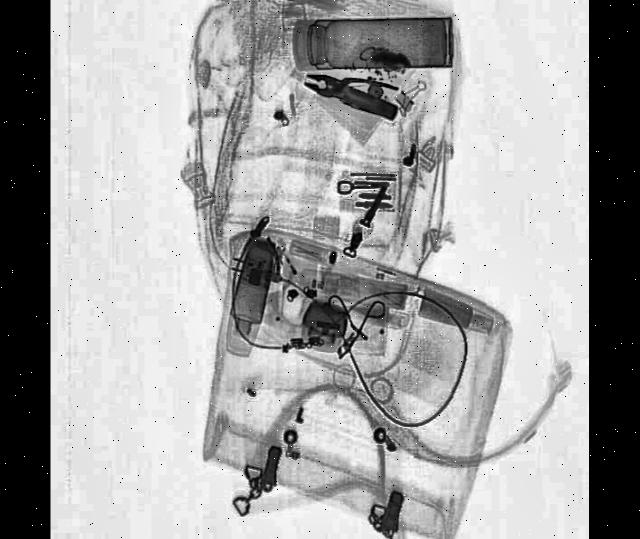Pliers: (301, 57, 398, 122)
